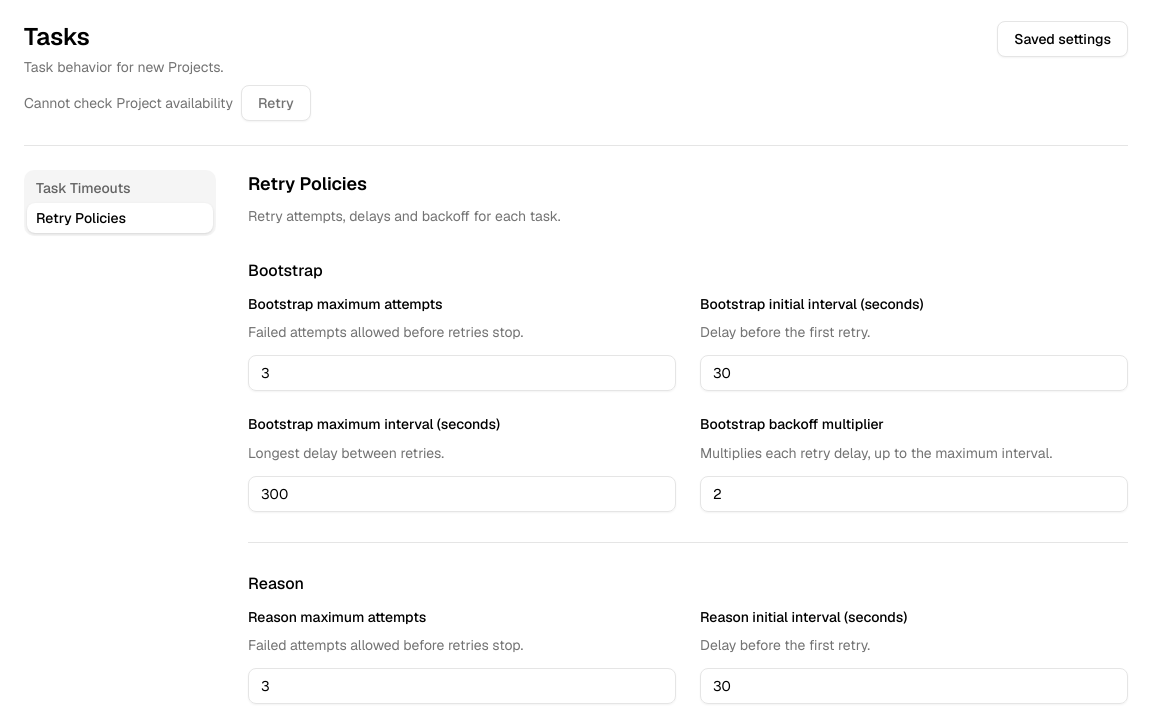
saves only the retry-policies section against its captured complete configuration
Replace the text in the field labelled "Bootstrap maximum attempts" with "5" at (462, 373), box [248,355,676,391]
(page scrolled)
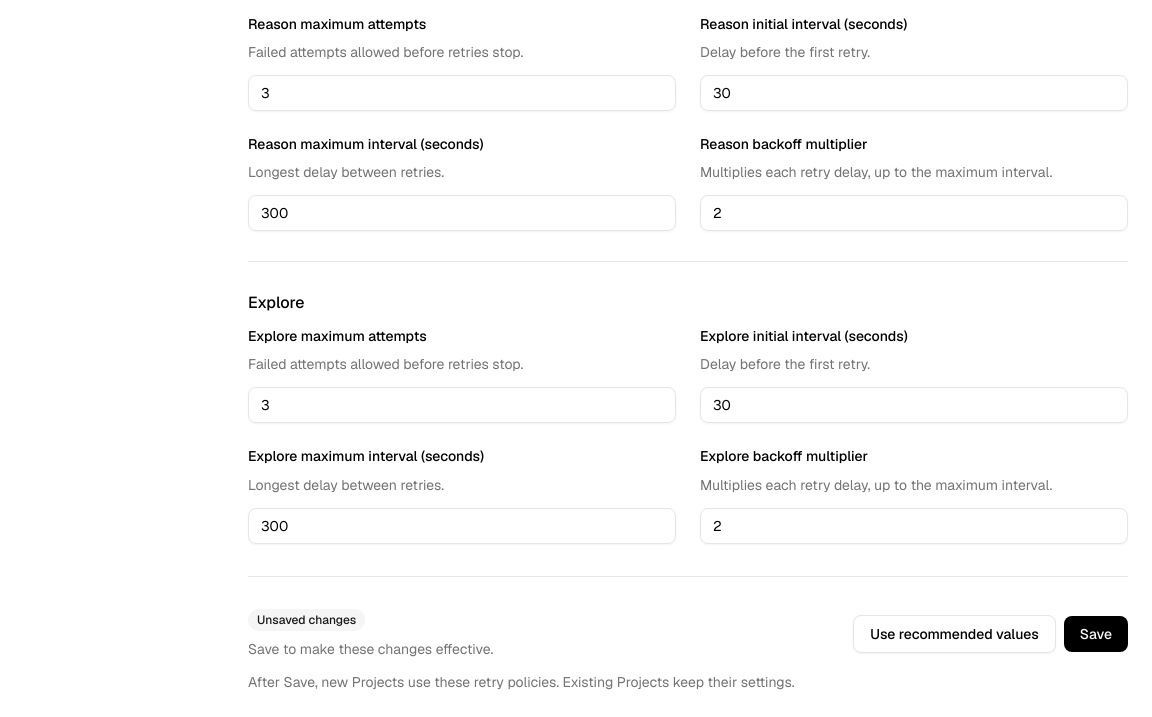
Click the button "Save" at (1096, 634), box [1064,616,1128,652]
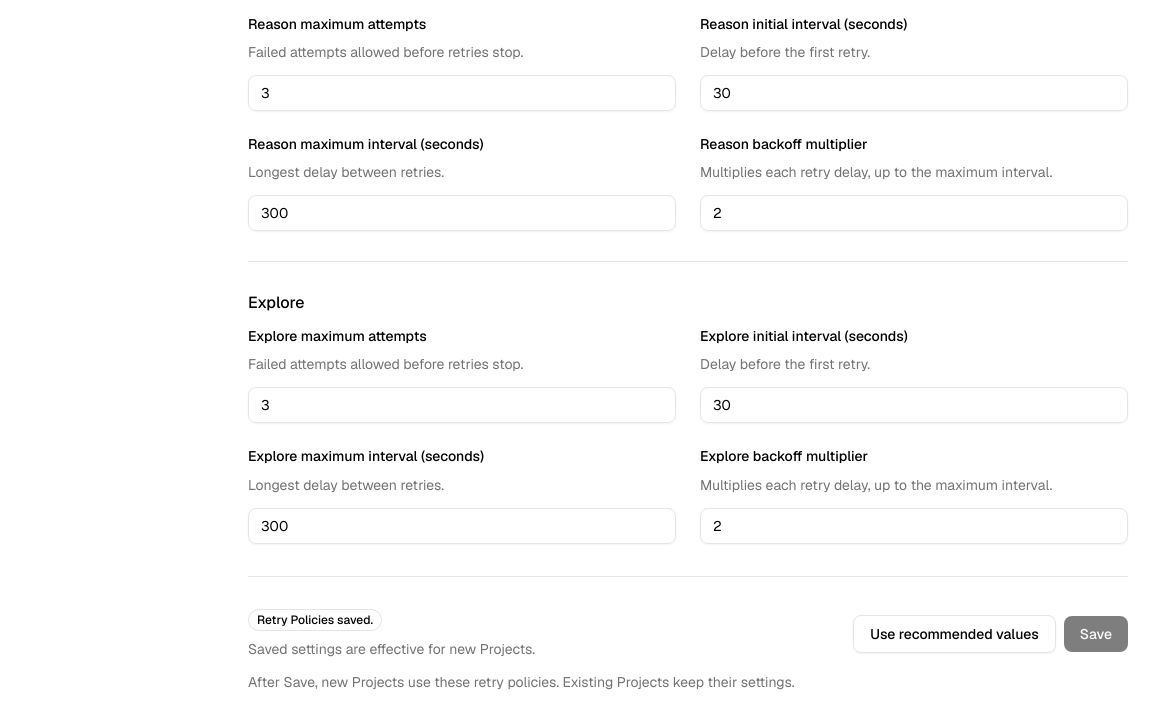
Now the button "Save" is disabled, box [1064,616,1128,652]
